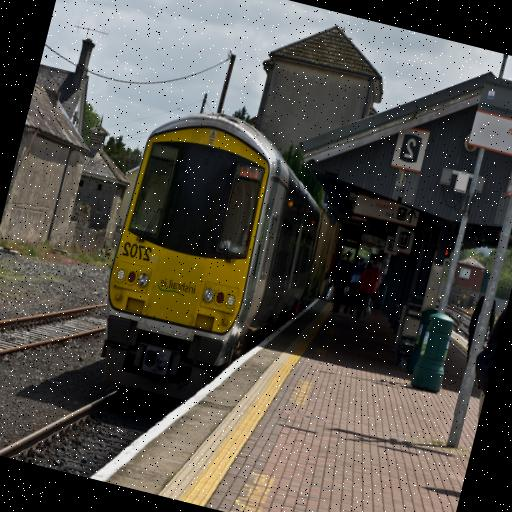platform_edge: (96, 350, 289, 512), (228, 303, 328, 390)
